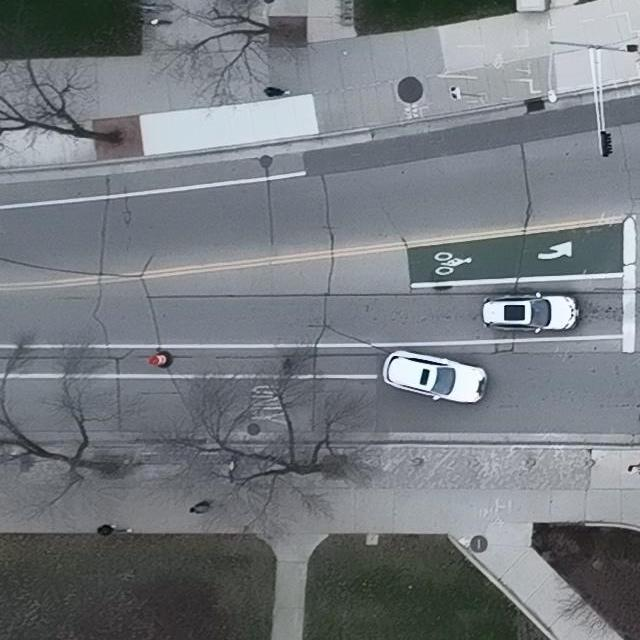car: (382, 348, 488, 403), (482, 291, 580, 333)
